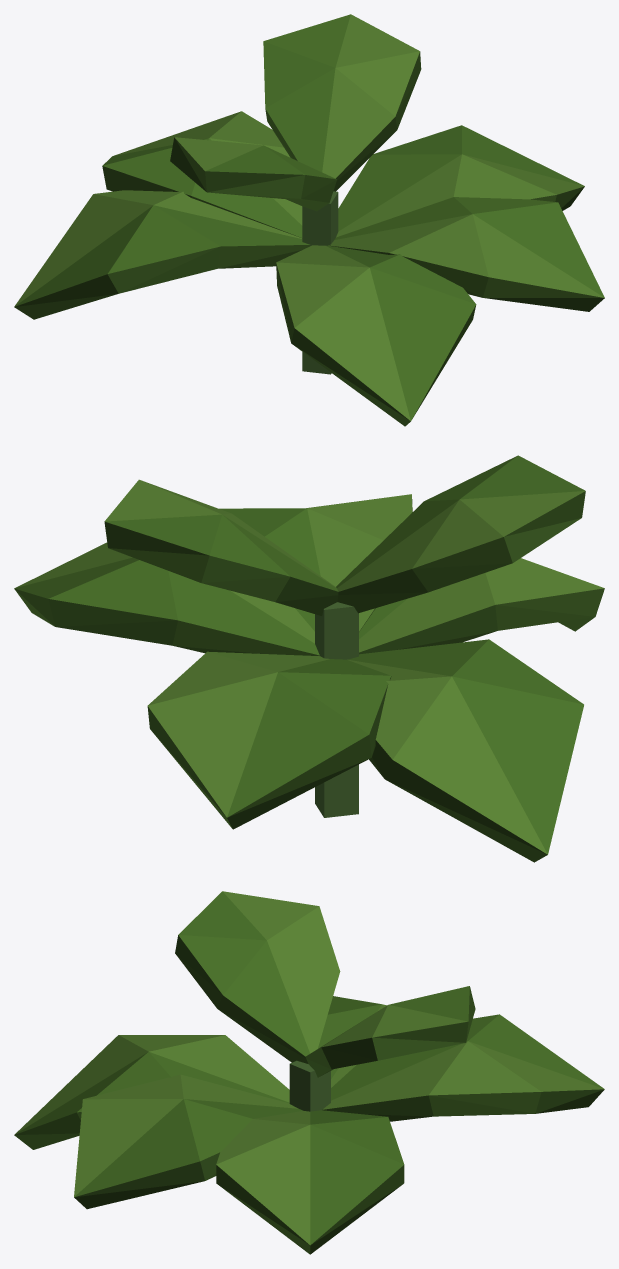
Rendered from potato_1.obj.
3 views of the same model, one above another, from view 1: azimuth 30°, elevation 25°; view 2: azimuth 150°, elevation 25°; view 3: azimuth 270°, elevation 25° (orthographic). The views are drawn at different scales.
Parts seen in each view (by area): view 1: potato_1; view 2: potato_1; view 3: potato_1.
Boxes of the visible parts, x1=… form: potato_1: x1=14, y1=14, x2=604, y2=426; potato_1: x1=14, y1=455, x2=604, y2=862; potato_1: x1=14, y1=891, x2=604, y2=1254.
Size of the model in its own units: 0.5878 by 0.2974 by 0.603.
